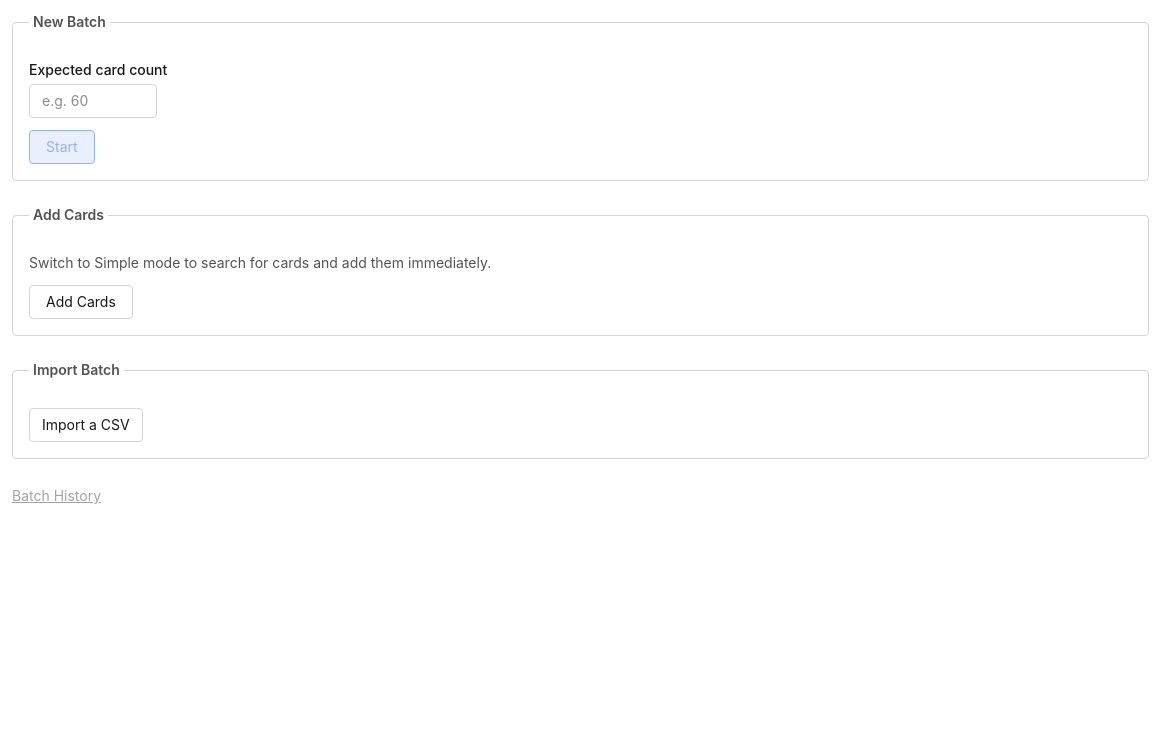
it: BatchBuilderForm › shows an error if switching to simple mode fails
Click the button "Add Cards".
click(81, 302)  # box [29, 285, 133, 319]
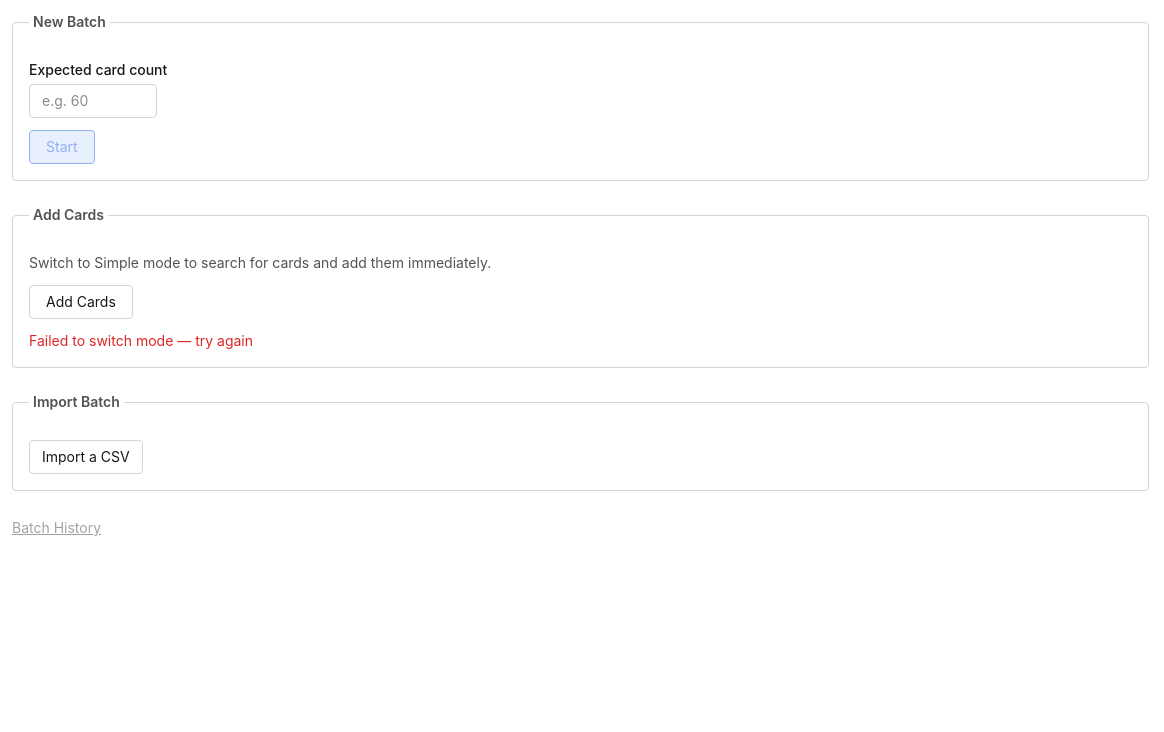
Now the message shows "Failed to switch mode", box [29, 332, 253, 349]
